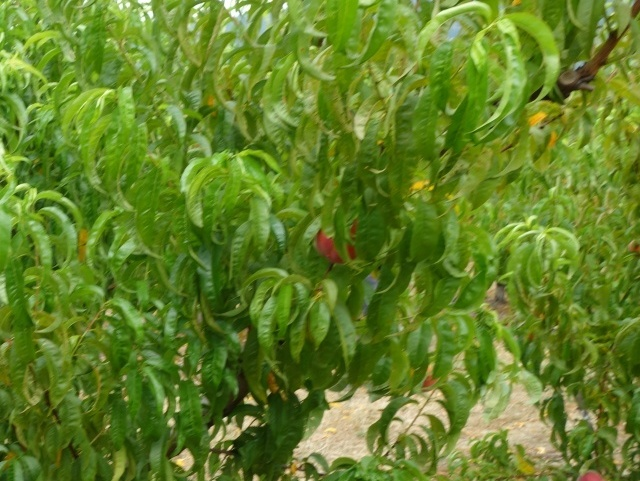peach: (312, 216, 363, 265)
